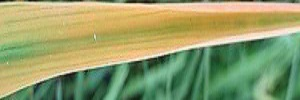RiceTungro: (2, 2, 299, 54)
